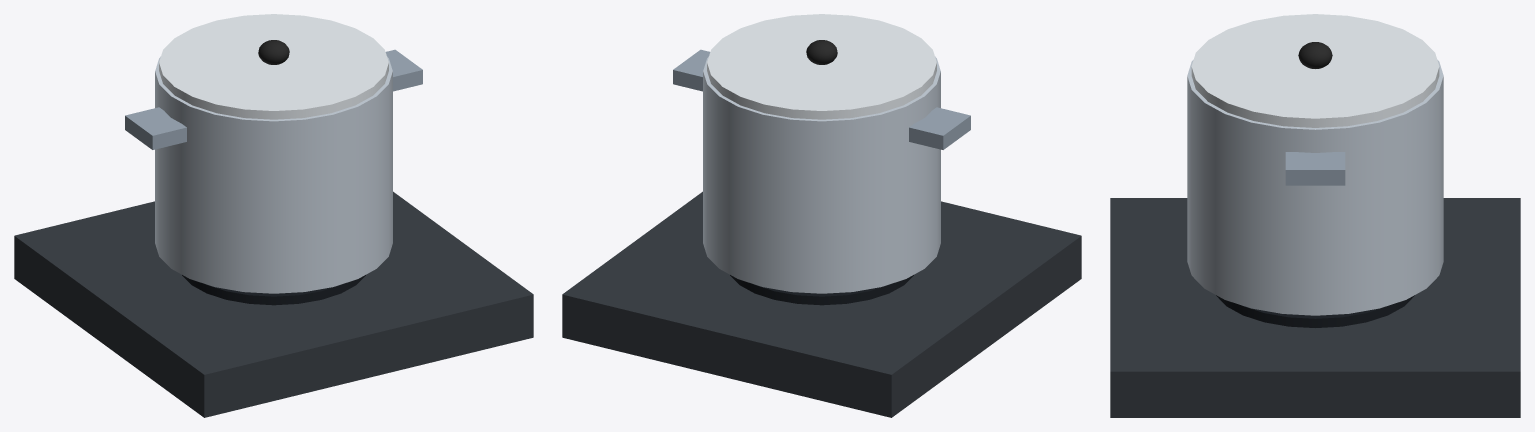
Rendered from cul-stock-pot.glb.
The picture shows the model from 3 angles, left to right: view 1: azimuth 30°, elevation 25°; view 2: azimuth 150°, elevation 25°; view 3: azimuth 270°, elevation 25°; orthographic projection. The views are drawn at different scales.
Visible parts, largest first — view 1: stove-top, pot, lid, handle-left, burner, handle-right, lid-knob; view 2: stove-top, pot, lid, handle-left, burner, handle-right, lid-knob; view 3: stove-top, pot, lid, burner, handle-right, lid-knob.
Boxes of the visible parts, left/top/right/bottom form: stove-top: left=14, top=191, right=533, bottom=417; pot: left=155, top=56, right=392, bottom=293; lid: left=159, top=14, right=388, bottom=119; handle-left: left=125, top=107, right=186, bottom=149; burner: left=182, top=275, right=365, bottom=305; handle-right: left=385, top=49, right=422, bottom=91; lid-knob: left=258, top=40, right=289, bottom=64; stove-top: left=562, top=191, right=1081, bottom=417; pot: left=703, top=56, right=940, bottom=293; lid: left=707, top=14, right=936, bottom=119; handle-left: left=909, top=107, right=970, bottom=149; burner: left=730, top=275, right=913, bottom=305; handle-right: left=673, top=49, right=710, bottom=91; lid-knob: left=806, top=40, right=837, bottom=64; stove-top: left=1110, top=198, right=1520, bottom=417; pot: left=1187, top=60, right=1443, bottom=315; lid: left=1191, top=14, right=1439, bottom=127; burner: left=1216, top=295, right=1414, bottom=327; handle-right: left=1285, top=152, right=1345, bottom=185; lid-knob: left=1298, top=42, right=1332, bottom=68.
Size of the model in its own units: 2.4 by 1.85 by 2.4.
